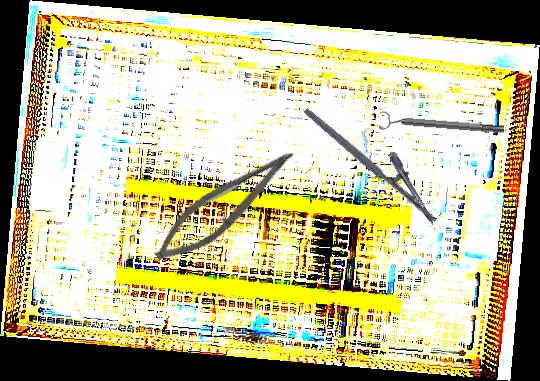Fixation Ring: (378, 109, 505, 141)
Micro Scissor: (145, 131, 303, 278)
Needle Holder: (302, 89, 453, 226)
